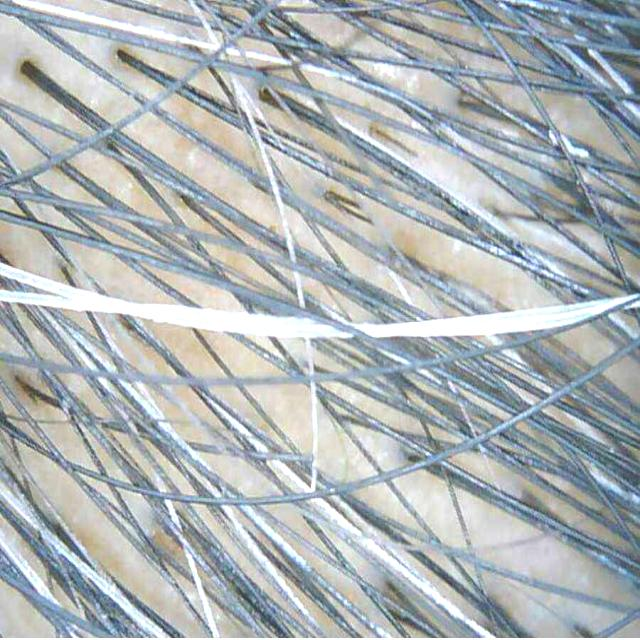d: (559, 132, 591, 159), (549, 130, 558, 147)
